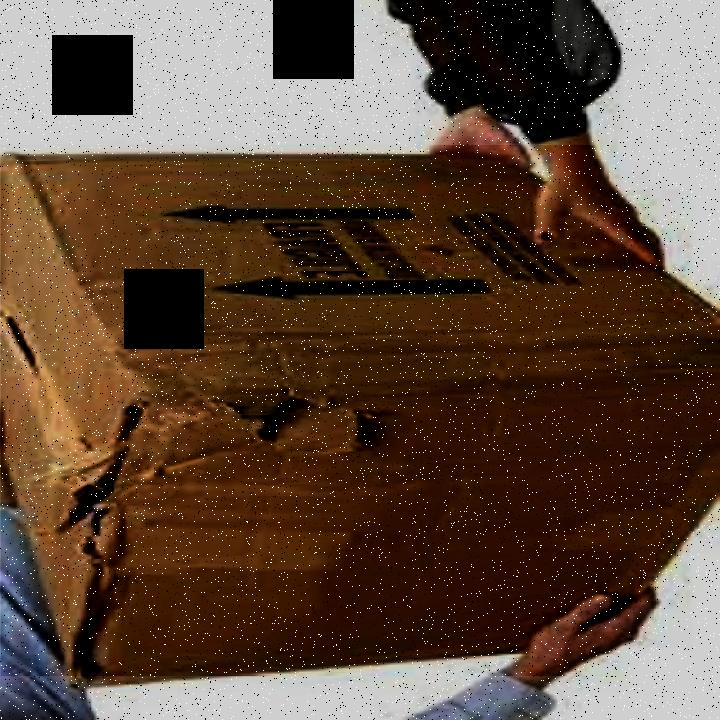box: (1, 145, 720, 676)
